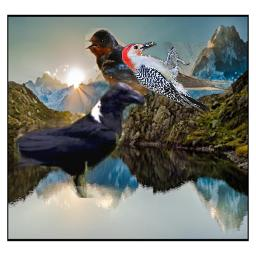Crow: (14, 80, 147, 198)
Swallow: (85, 28, 233, 95)
Woodpecker: (122, 42, 211, 115)
